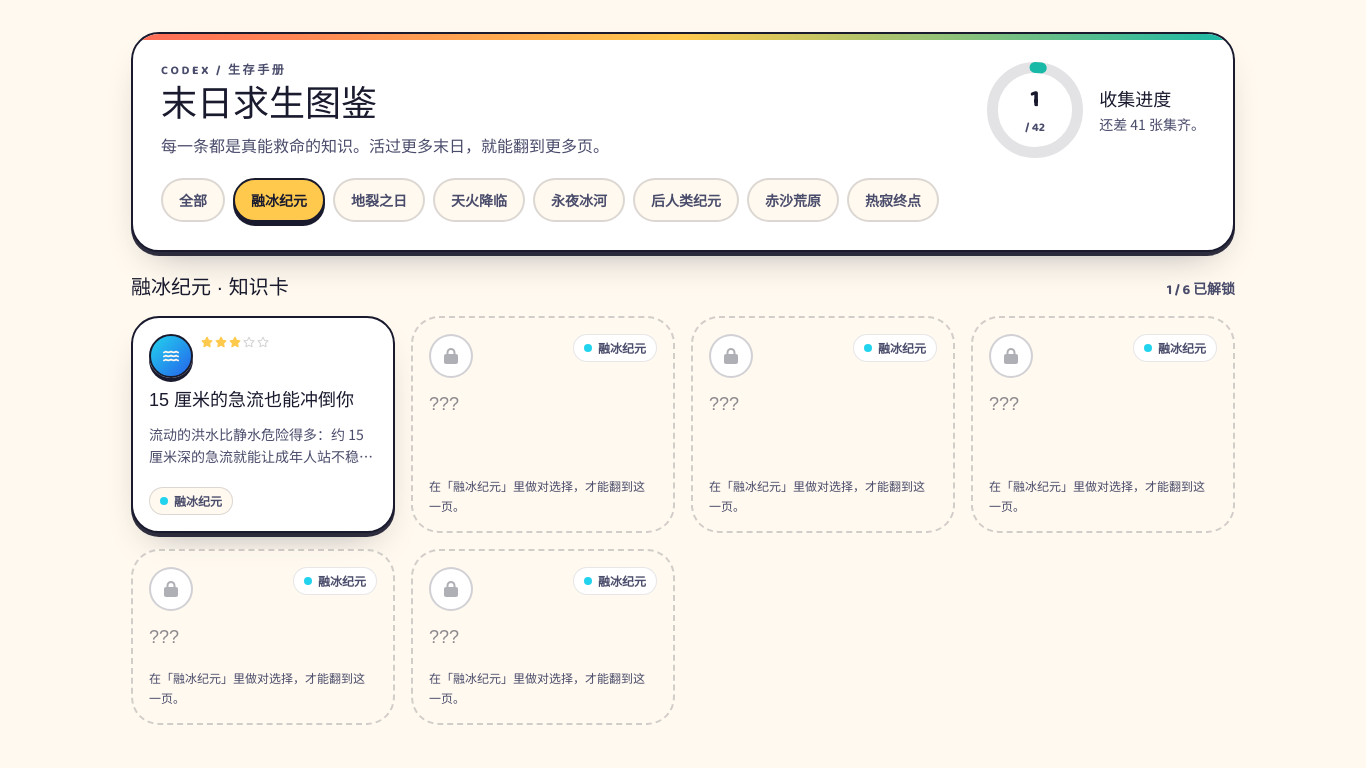
Scenario: CodexScreen › opens an unlocked card in a dialog and closes it with Escape
Step 1. Click the button "15 厘米的急流也能冲倒你" → click(263, 425), box [131,316,395,533]
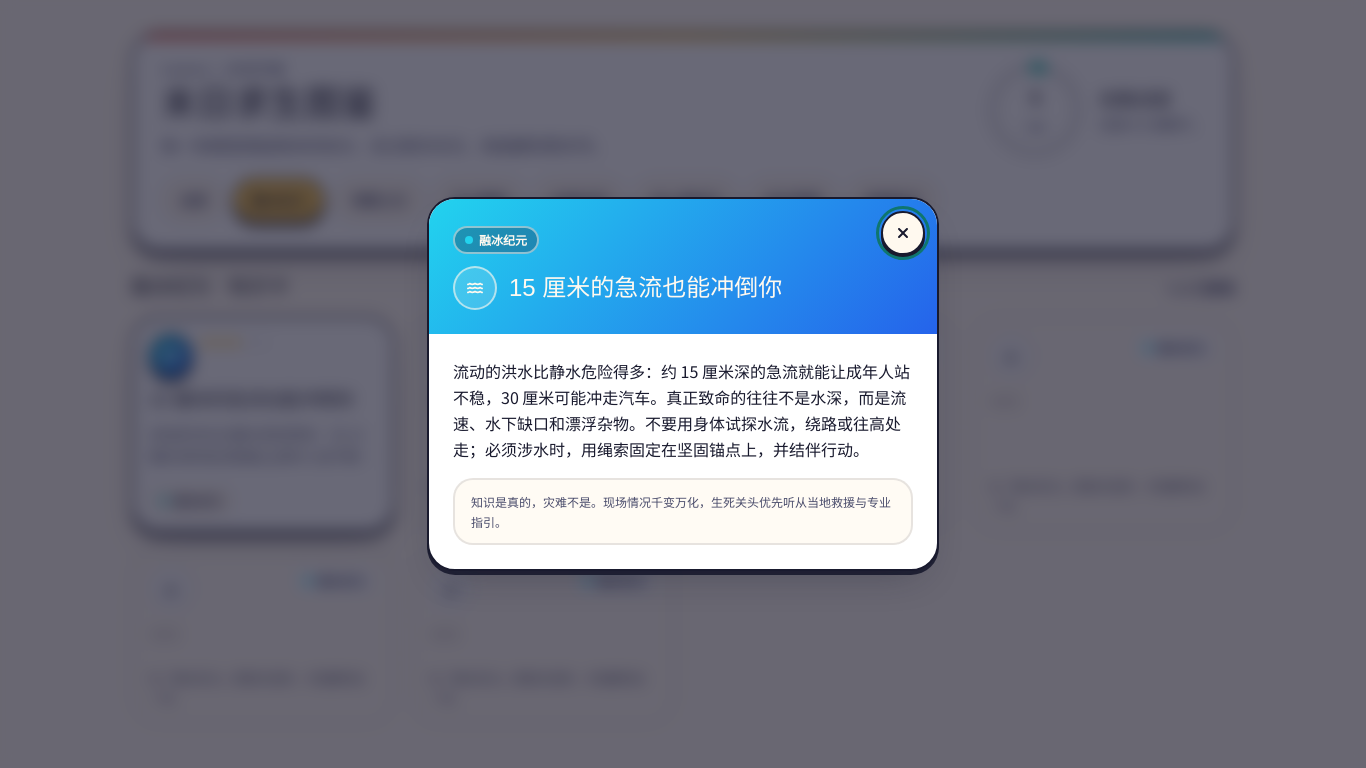
Expected: the dialog shows "15 厘米的急流也能冲倒你", [509,274,782,301]
Expected: the dialog shows "融冰纪元", [479,231,527,248]
Step 2. Press Escape
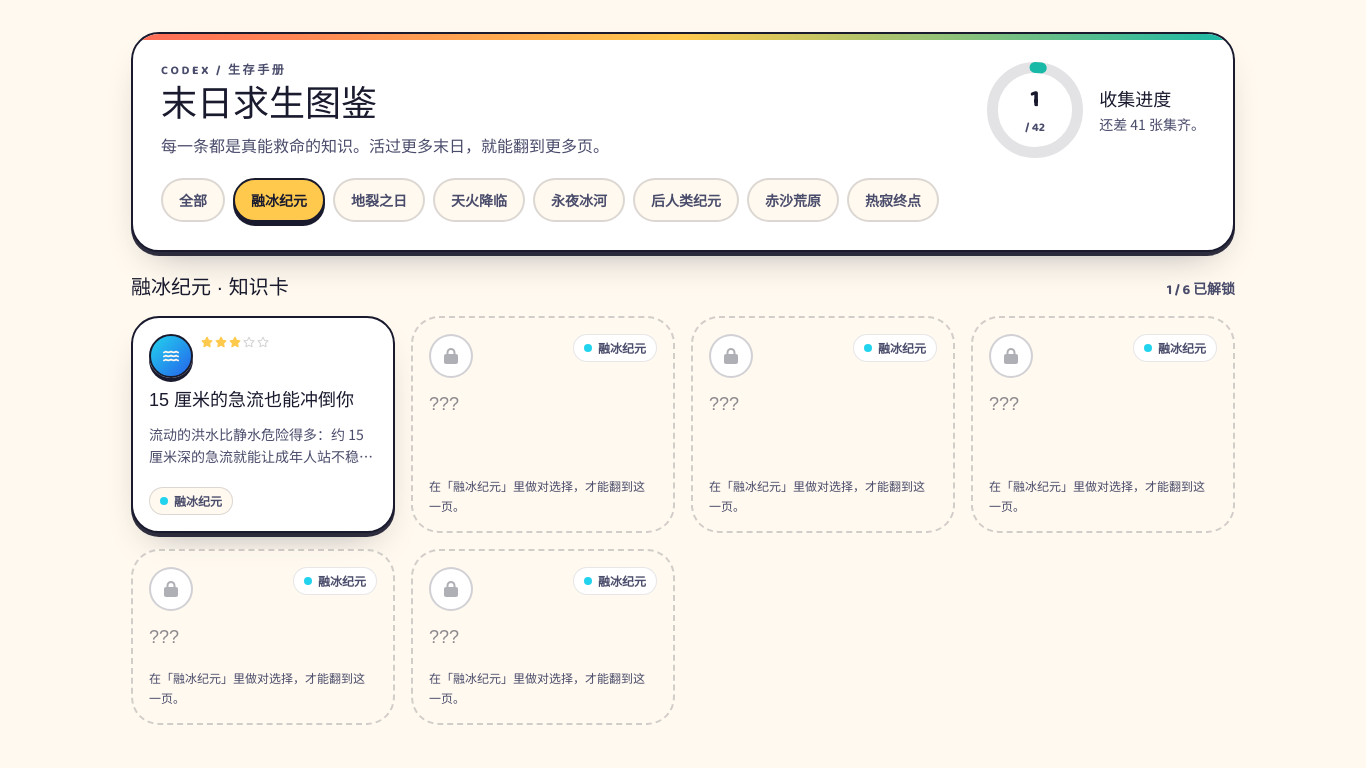
Expected: the dialog is gone
